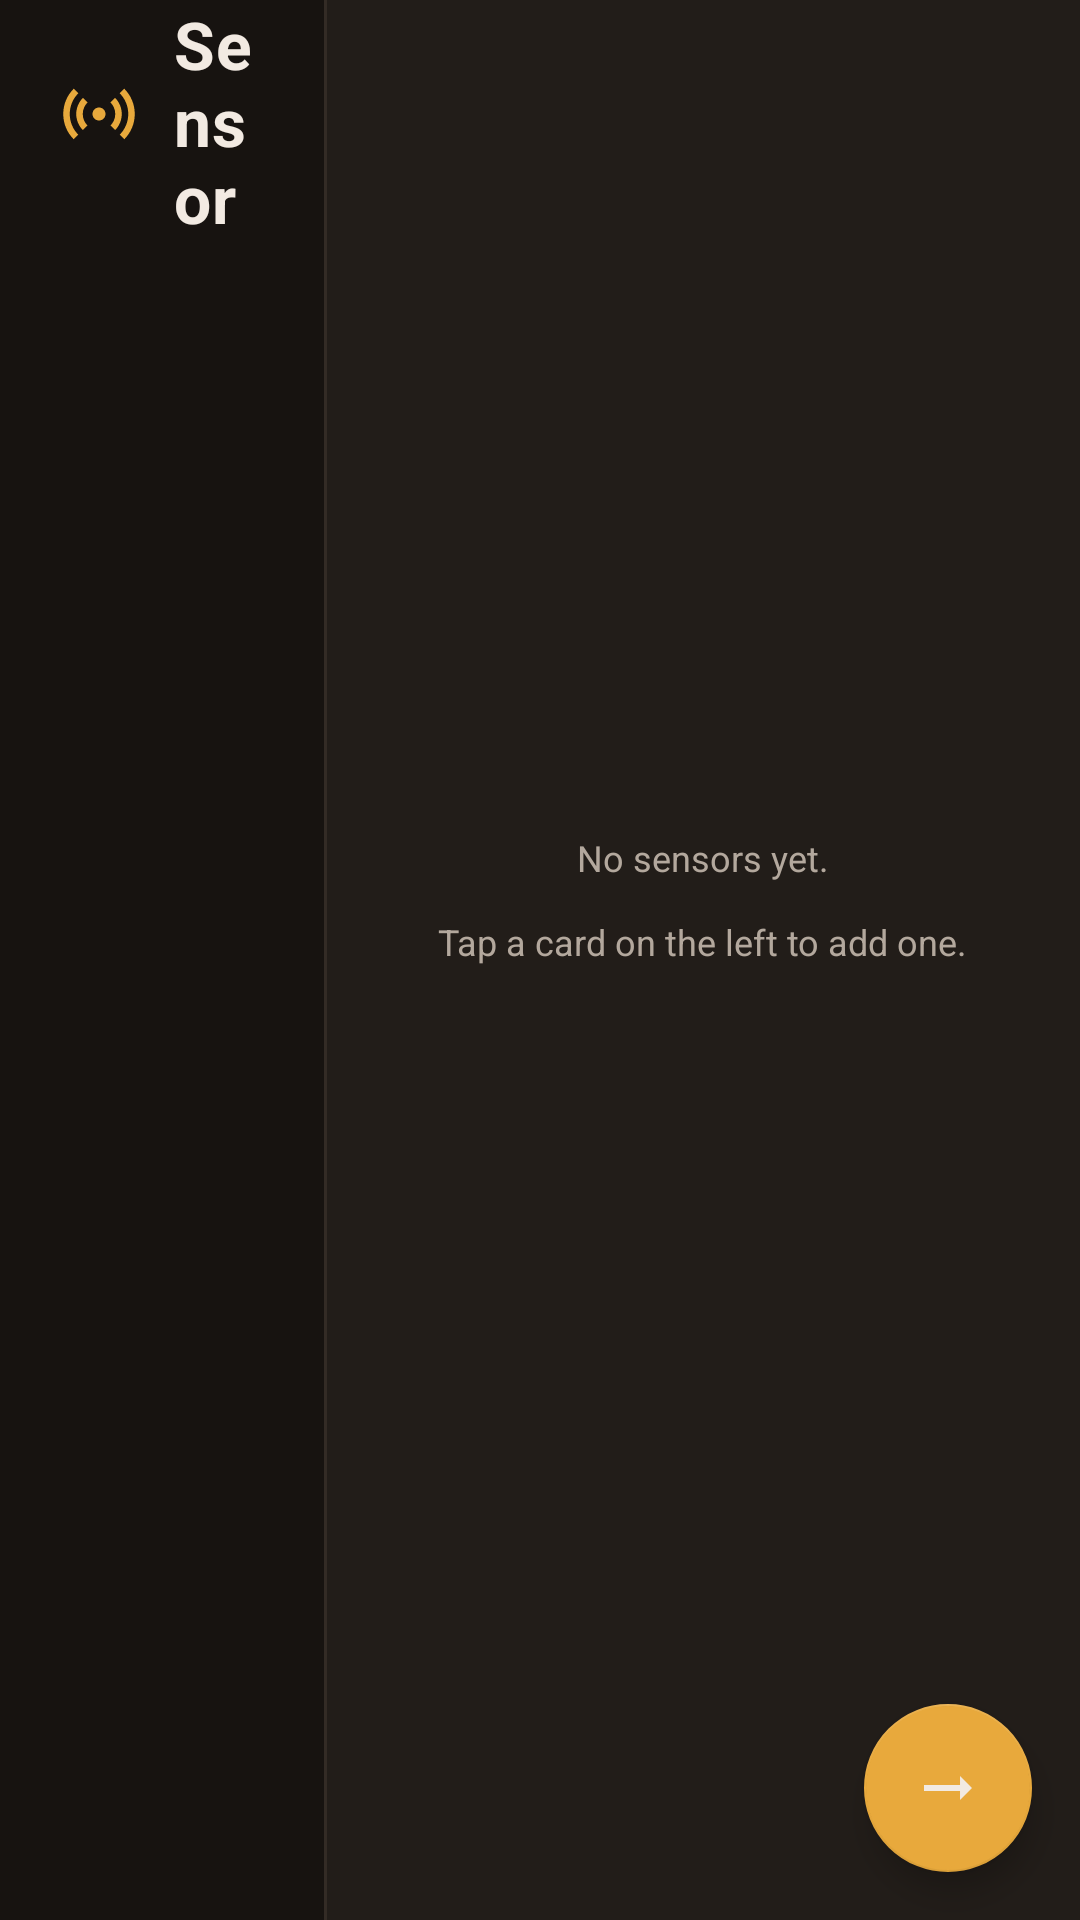

Icons on this 1080px x 1920px Android screen, each with its box as (x1, y1, x2, y2):
Continue to the visual code builder: (864, 1704, 1032, 1872)
